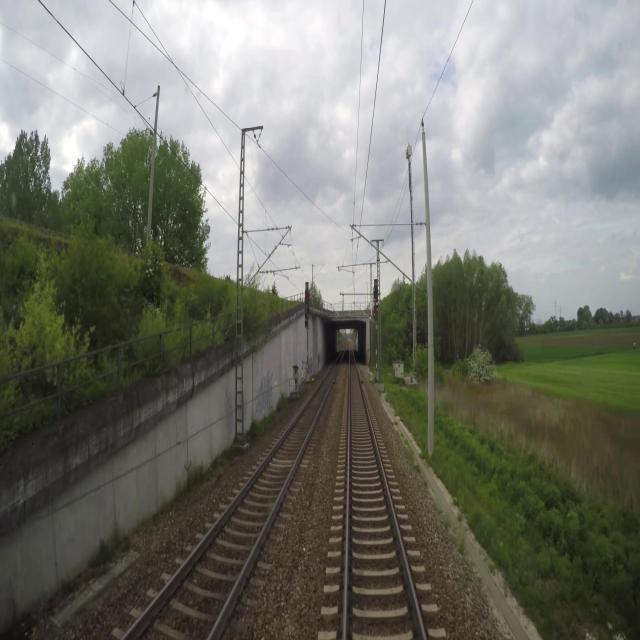rail-track: (127, 359, 339, 639), (349, 354, 422, 639)
